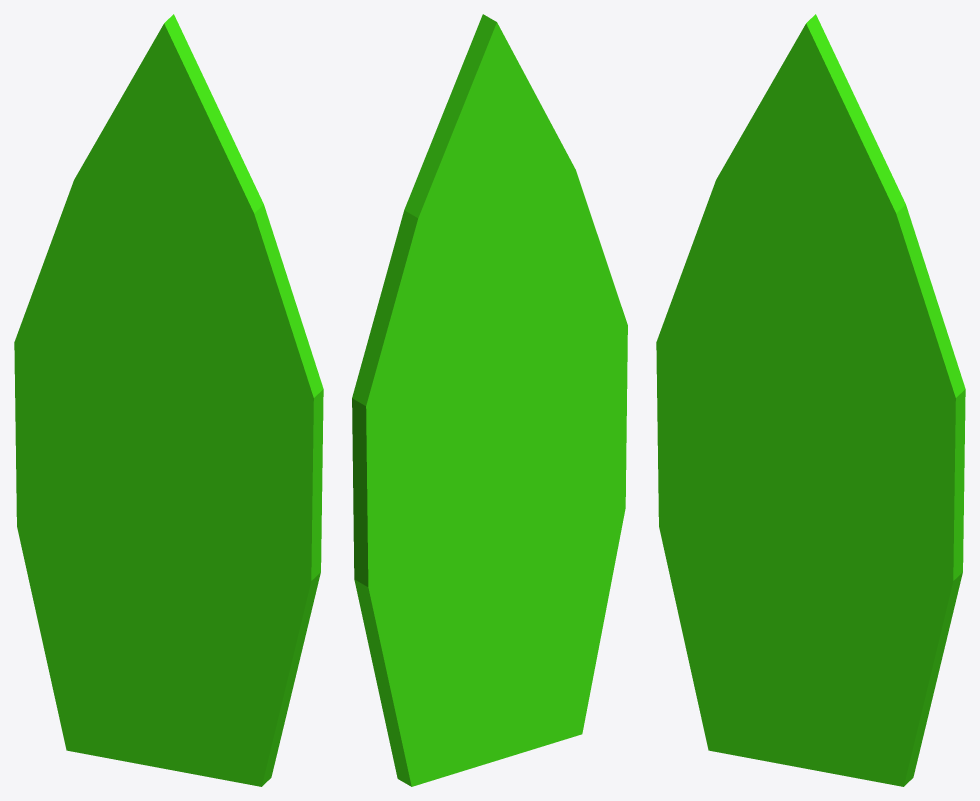
The model's file is Rigged Grass Export 11.fbx.
3 renders of one model, left to right at view 1: azimuth 90°, elevation 25°; view 2: azimuth 150°, elevation 25°; view 3: azimuth 270°, elevation 25°, orthographic.
Visible parts, largest first — view 1: Grass 1 Left 6; view 2: Grass 1 Left 6; view 3: Grass 1 Left 6.
Part boxes in pixels (x1=…): Grass 1 Left 6: x1=14, y1=14, x2=323, y2=786; Grass 1 Left 6: x1=352, y1=14, x2=627, y2=786; Grass 1 Left 6: x1=656, y1=14, x2=965, y2=786.
Bounding box in the file's own units: 66.41 × 354 × 133.
